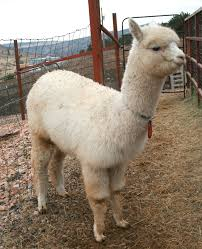alpaca: (25, 16, 185, 243)
